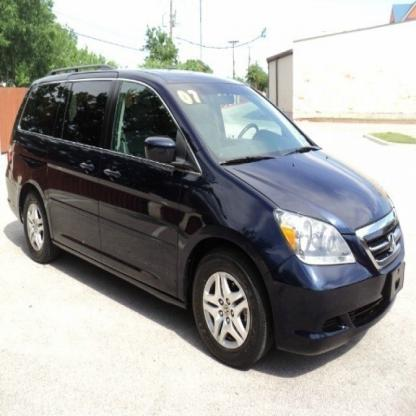Vehicle: (5, 64, 408, 372)
